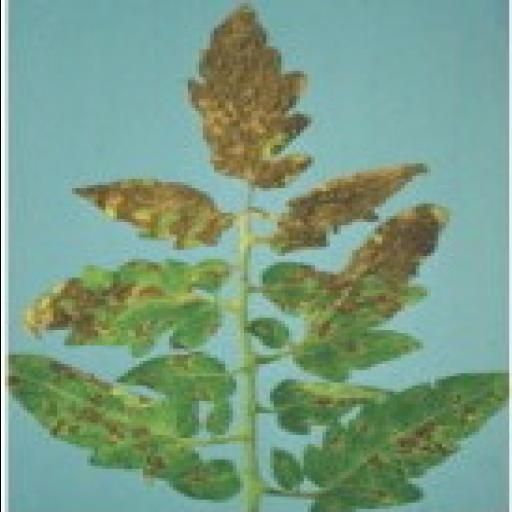Septoria: (8, 346, 200, 500), (303, 370, 509, 512), (22, 259, 232, 358), (292, 320, 422, 382), (108, 352, 240, 402)
